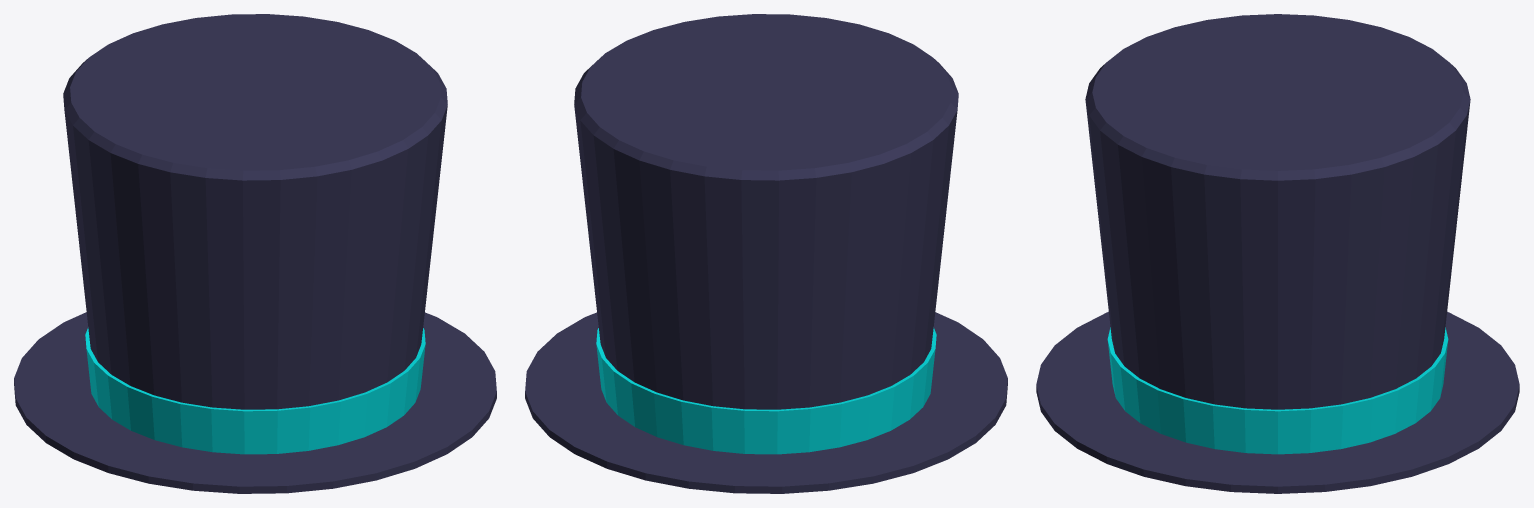
Rendered from Hat.fbx.
The picture shows the model from 3 angles, left to right: view 1: azimuth 30°, elevation 25°; view 2: azimuth 150°, elevation 25°; view 3: azimuth 270°, elevation 25°; orthographic projection.
Parts seen in each view (by area): view 1: Hat; view 2: Hat; view 3: Hat.
Part boxes in pixels (x1,y1,x2,y2): Hat: [14, 14, 496, 493]; Hat: [525, 14, 1007, 493]; Hat: [1036, 14, 1519, 493].
Bounding box in the file's own units: 300 × 205 × 300.
